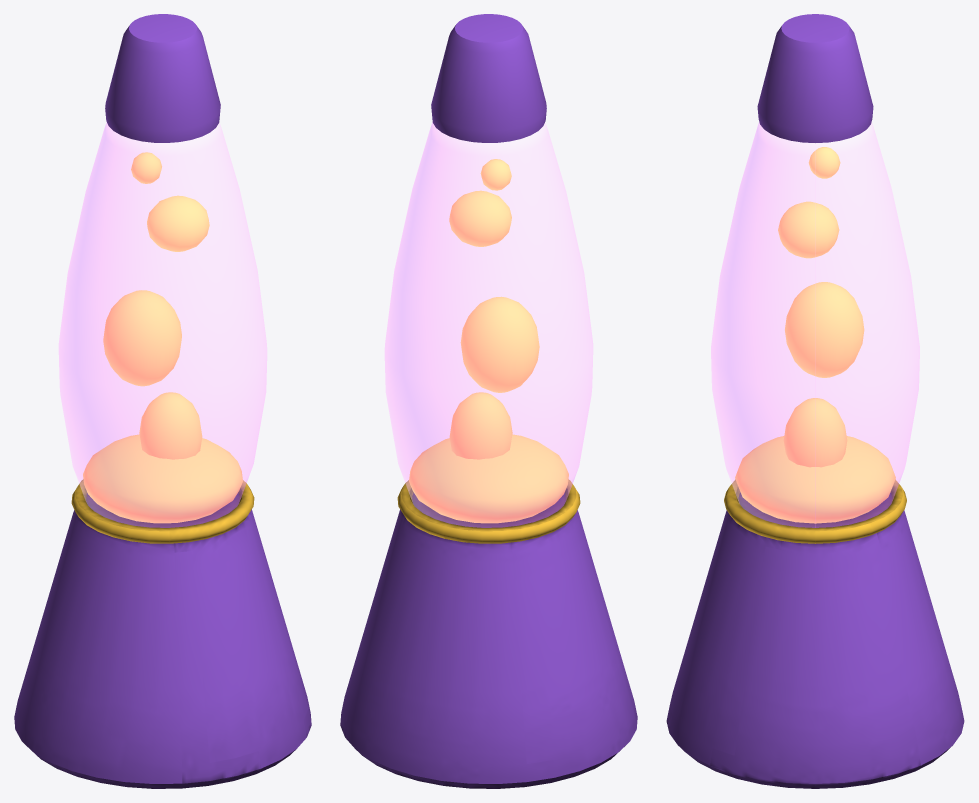
Rendered from lava_lamp.glb.
3 renders of one model, left to right at view 1: azimuth 30°, elevation 25°; view 2: azimuth 150°, elevation 25°; view 3: azimuth 270°, elevation 25°, orthographic.
Parts seen in each view (by area): view 1: lava_lamp; view 2: lava_lamp; view 3: lava_lamp.
Boxes of the visible parts, <box> form: lava_lamp: <box>14,14,311,788</box>; lava_lamp: <box>340,14,637,788</box>; lava_lamp: <box>666,14,964,788</box>.
Size of the model in its own units: 0.131 by 0.341 by 0.131.
Materials: 4 (2 with a texture image).
